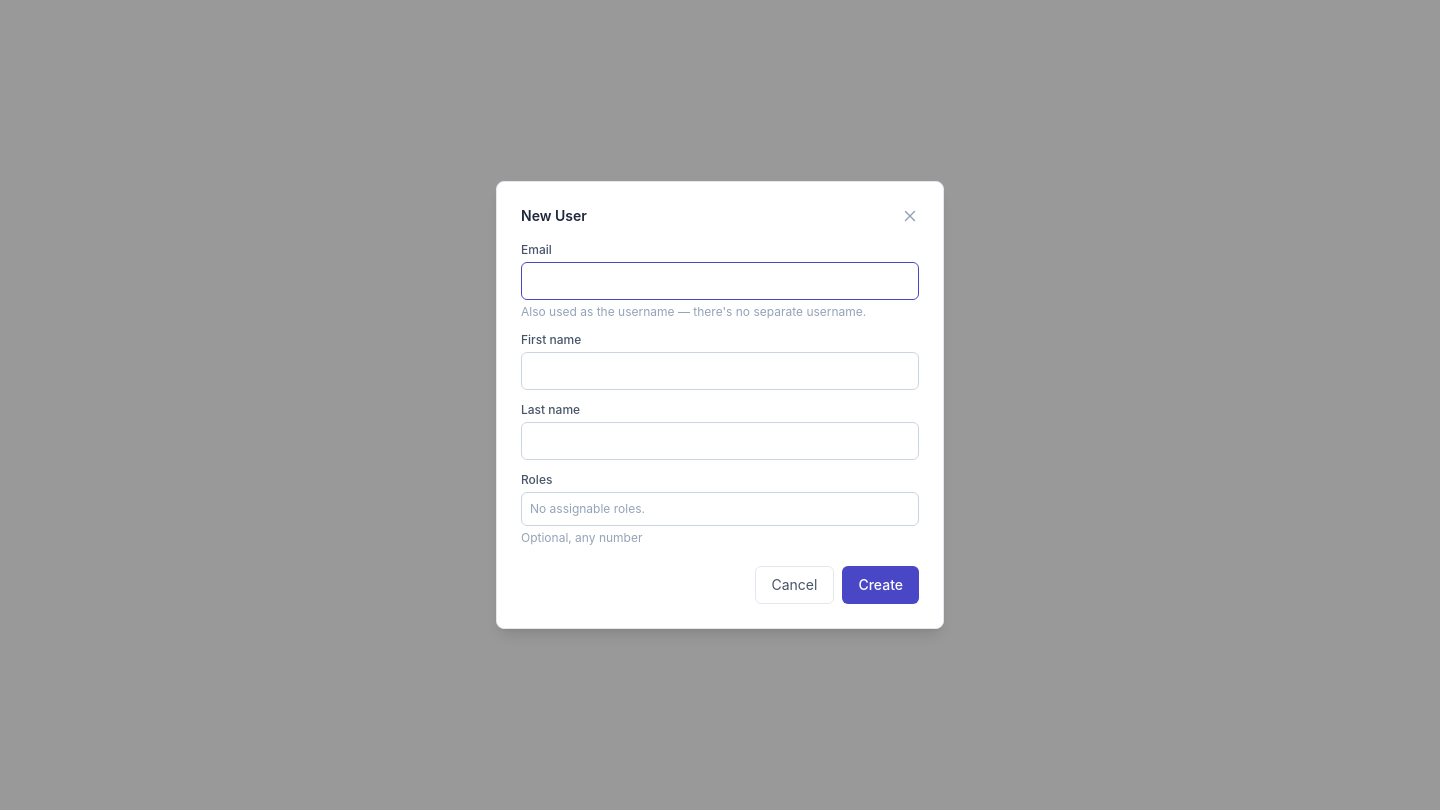
Test case: CreateUserModal › shows a validation error and does not submit when email is empty
The image size is (1440, 810).
Click the button "Create". click: point(881, 585)
box: [842, 566, 919, 604]
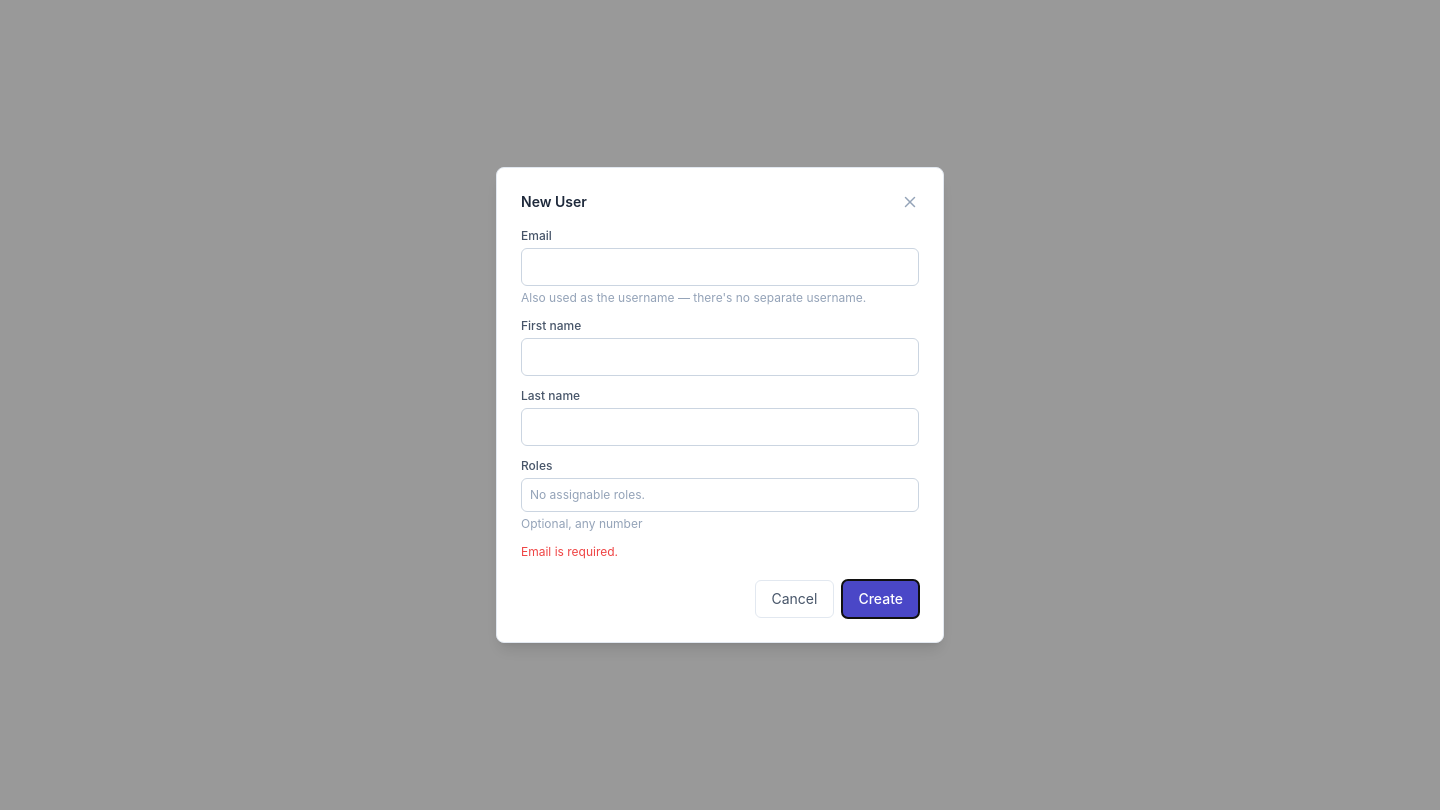
expect the text "Email is required." is shown: met, box [521, 544, 618, 559]
